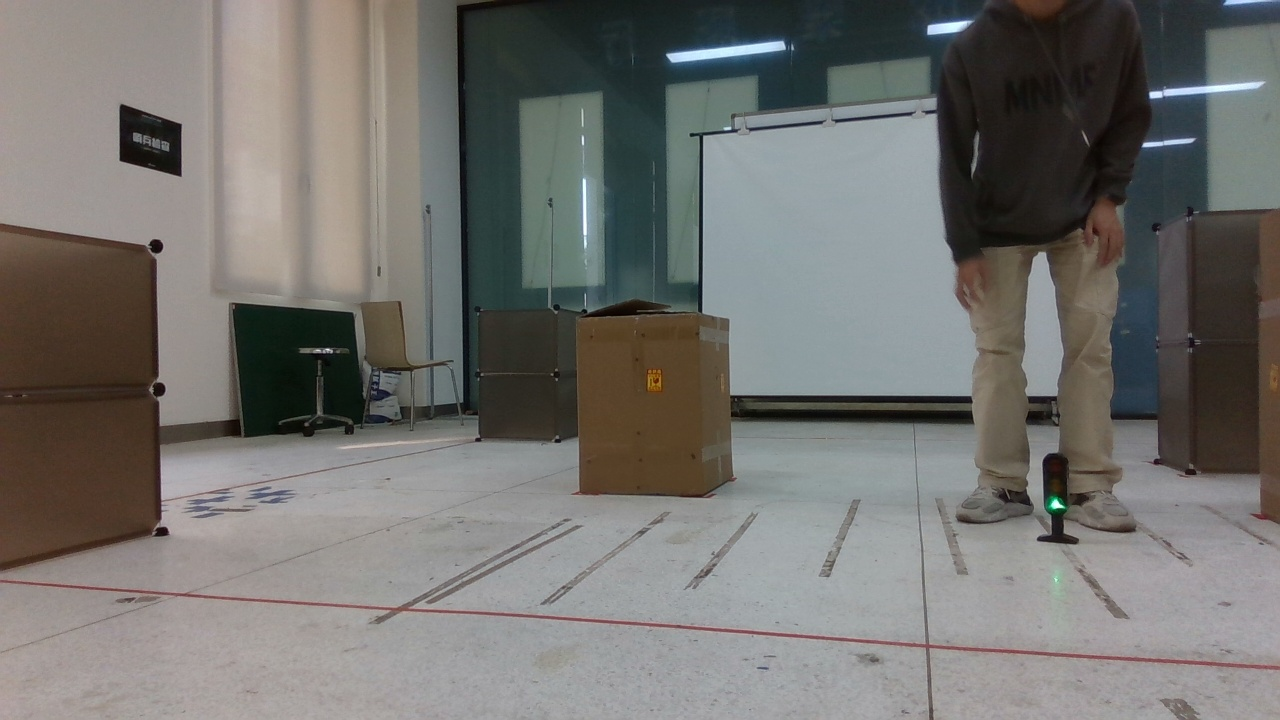green_light: (1023, 436, 1082, 542)
